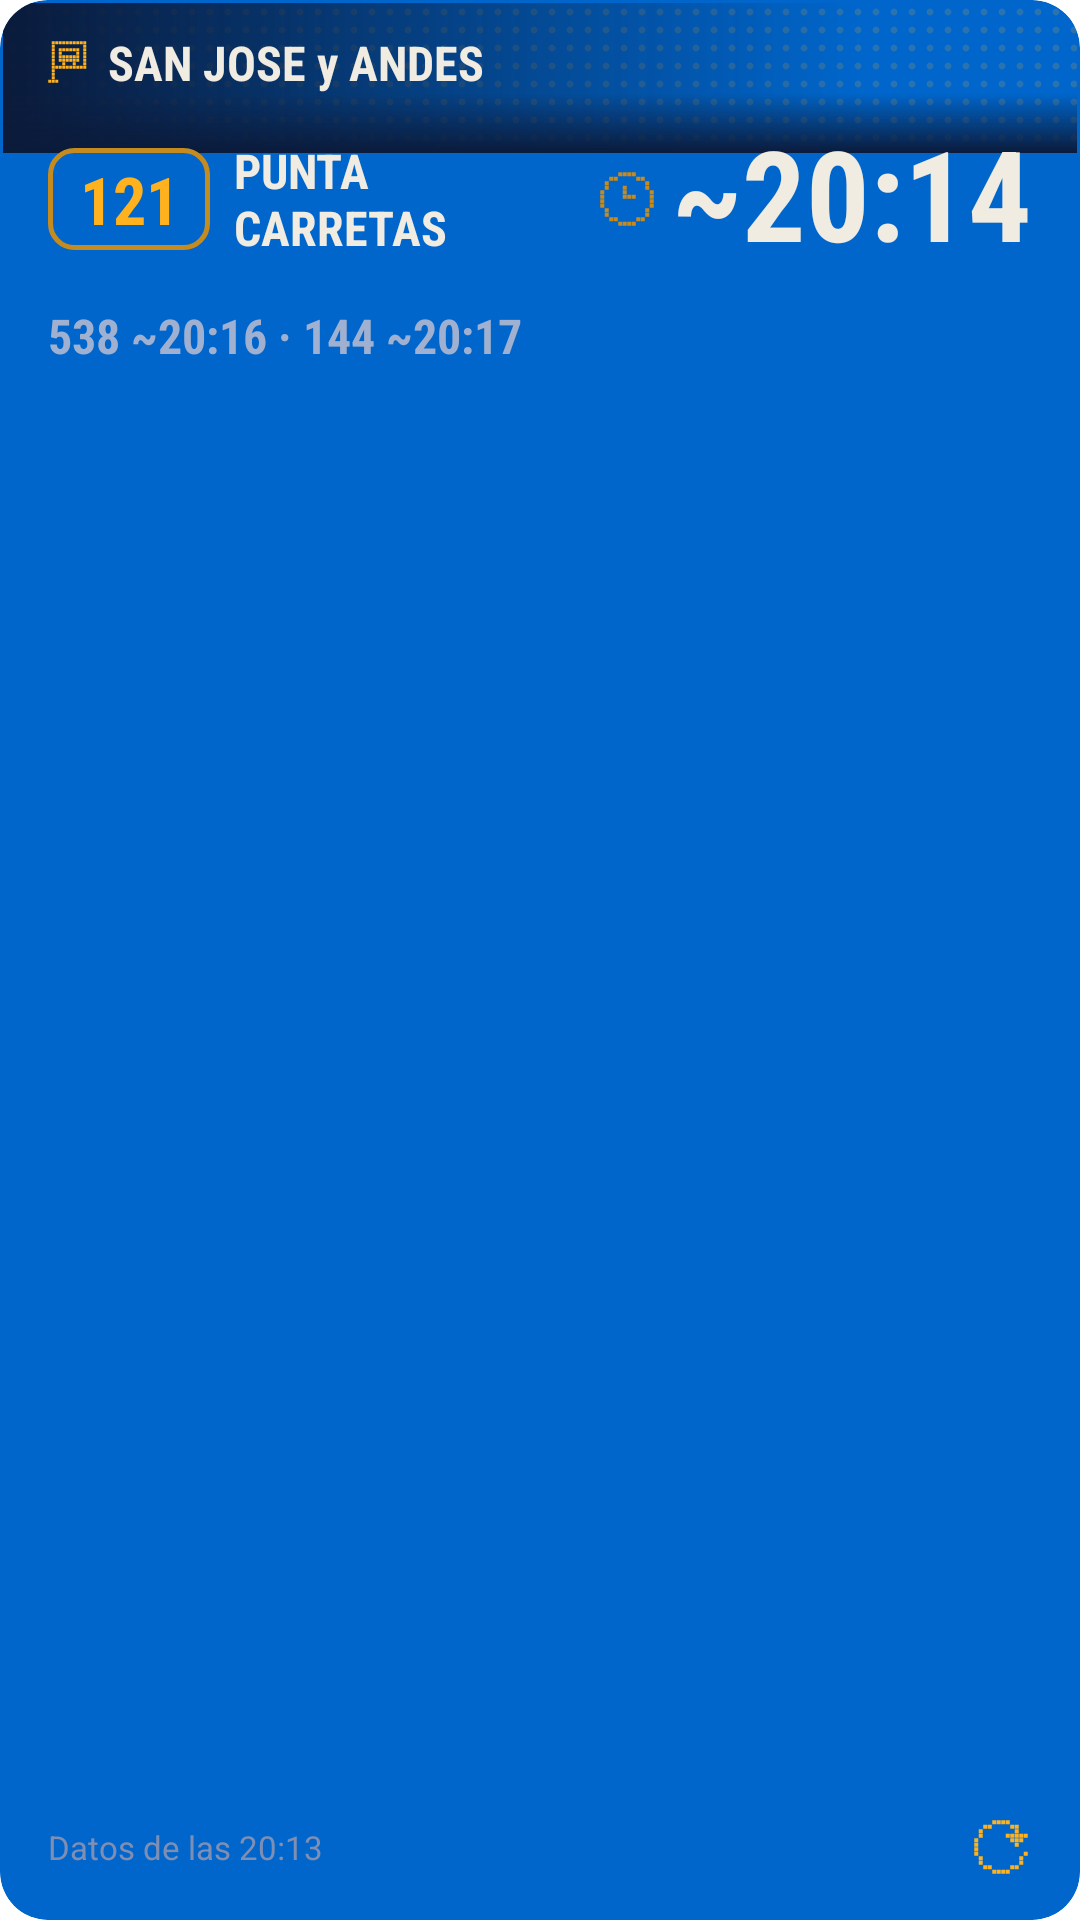

Where to tap for icons on this 1080 x 1920 app screen, as [x,y]:
widget clock dim: [627,199]
